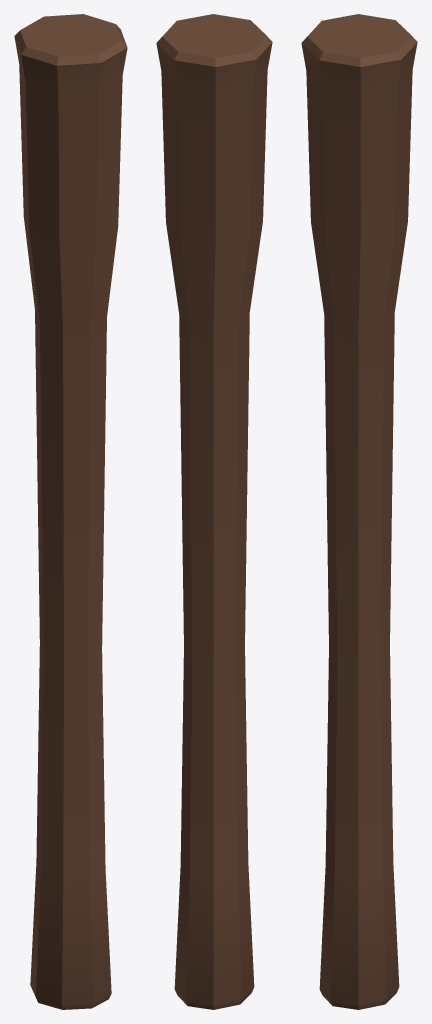
File: Pickaxe Handle.fbx
3 renders of one model, left to right at view 1: azimuth 90°, elevation 25°; view 2: azimuth 150°, elevation 25°; view 3: azimuth 330°, elevation 25°, orthographic.
Parts seen in each view (by area): view 1: Handle; view 2: Handle; view 3: Handle.
Part boxes in pixels (left/top/right/bottom): Handle: left=14, top=14, right=127, bottom=1009; Handle: left=156, top=14, right=272, bottom=1009; Handle: left=301, top=14, right=417, bottom=1009.
Bounding box in the file's own units: 61.03 × 571 × 61.03.
